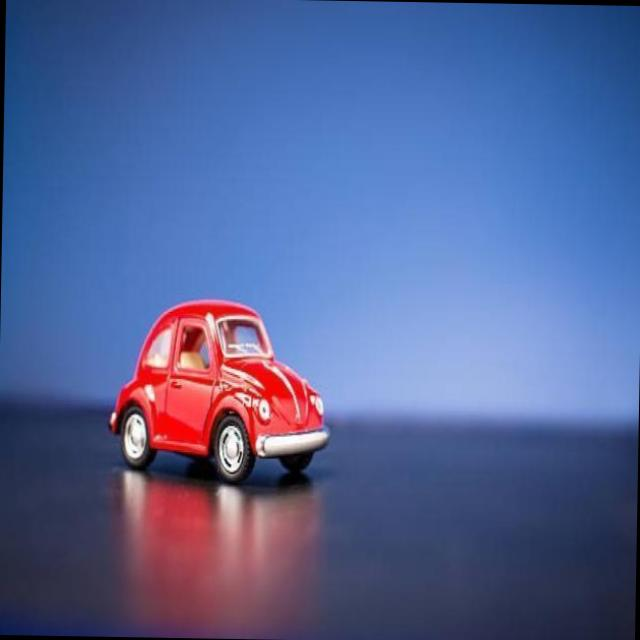car: (106, 296, 324, 492)
